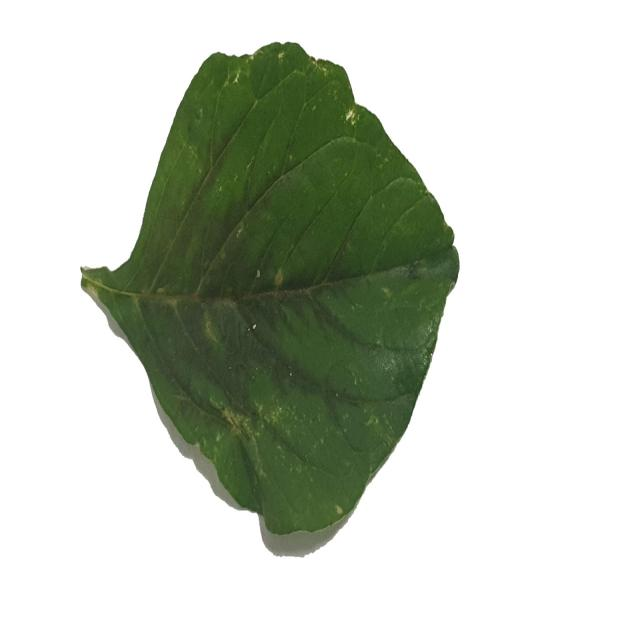Medicinal-Arive Dantu: (82, 40, 461, 558)
